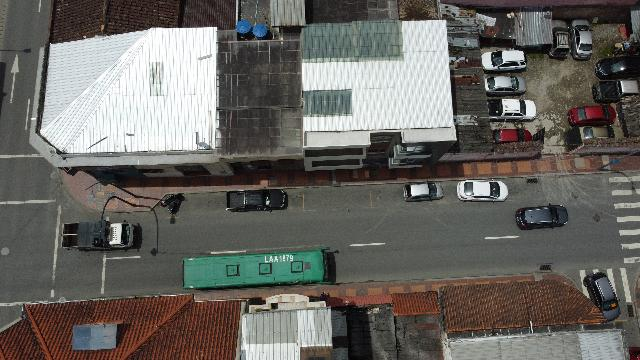Vehiculo: (582, 272, 620, 321), (226, 189, 289, 211), (516, 204, 568, 229), (592, 79, 640, 103), (457, 180, 508, 202), (594, 56, 640, 80), (488, 99, 536, 122), (568, 106, 616, 127), (569, 19, 593, 60), (482, 49, 526, 70), (484, 75, 526, 95), (548, 20, 570, 58), (403, 182, 443, 202), (492, 128, 532, 144)
